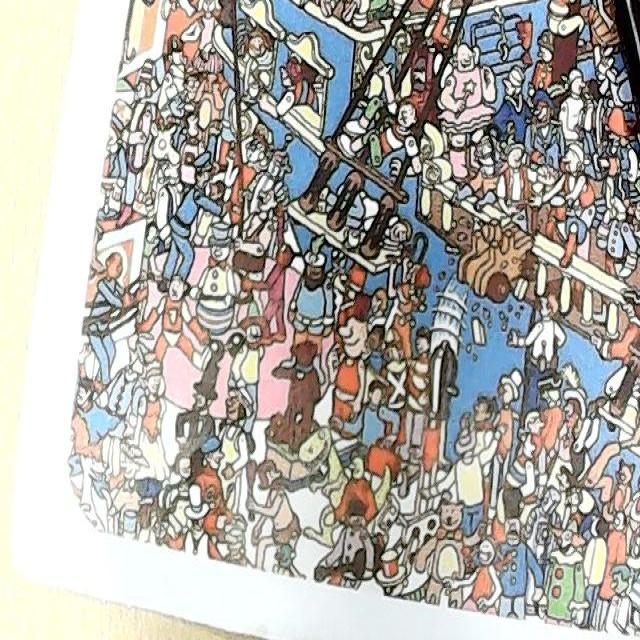waldo: (180, 60, 203, 104)
